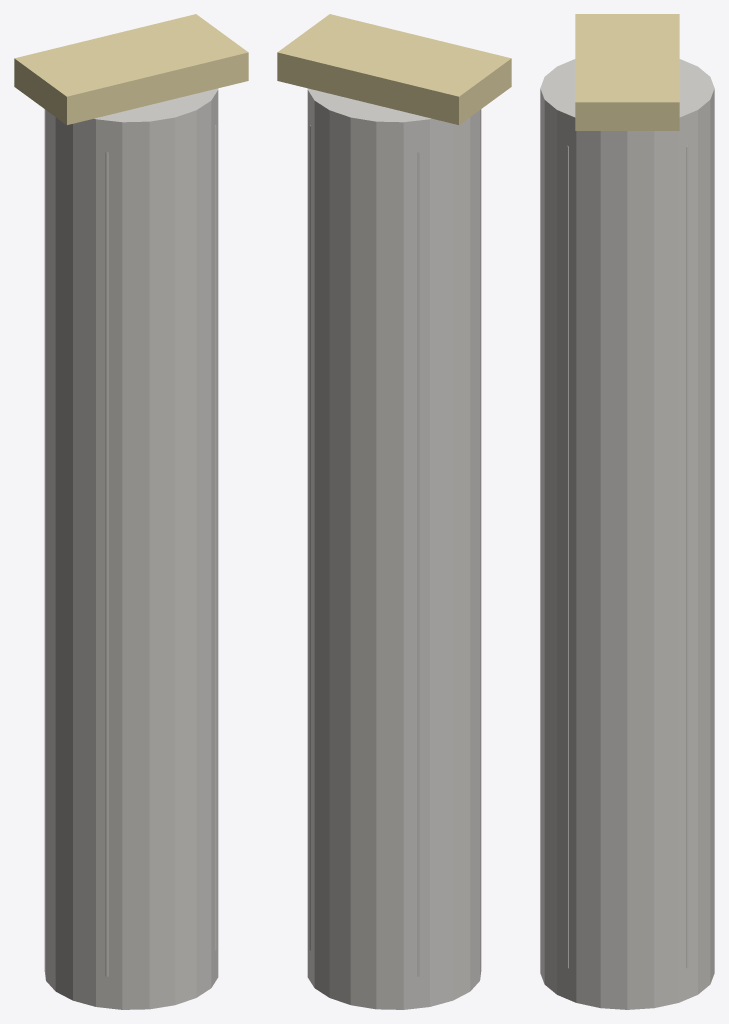
Rendered from env_classical_column.glb.
3 views of the same model, side by side, from view 1: azimuth 30°, elevation 25°; view 2: azimuth 150°, elevation 25°; view 3: azimuth 270°, elevation 25° (orthographic).
Visible parts, largest first — view 1: Cylinder, Cube, Cylinder.006, Cylinder.008; view 2: Cylinder, Cube, Cylinder.004, Cylinder.002; view 3: Cylinder, Cube, Cylinder.002, Cylinder.008.
Boxes of the visible parts, box(x1,y1,x2,y2) form: Cylinder: box(44, 88, 218, 1009); Cube: box(14, 14, 248, 124); Cylinder.006: box(105, 152, 108, 976); Cylinder.008: box(215, 125, 216, 950); Cylinder: box(307, 88, 481, 1009); Cube: box(277, 14, 511, 124); Cylinder.004: box(417, 152, 420, 976); Cylinder.002: box(309, 125, 310, 950); Cylinder: box(540, 59, 714, 1009); Cube: box(575, 14, 679, 130); Cylinder.002: box(686, 146, 688, 968); Cylinder.008: box(566, 146, 568, 968).
Size of the model in its own units: 0.6 by 2.89 by 0.5.
